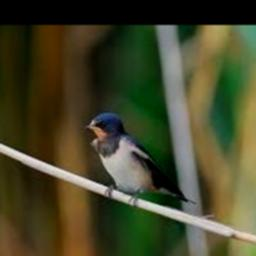Swallow: (81, 113, 195, 206)
